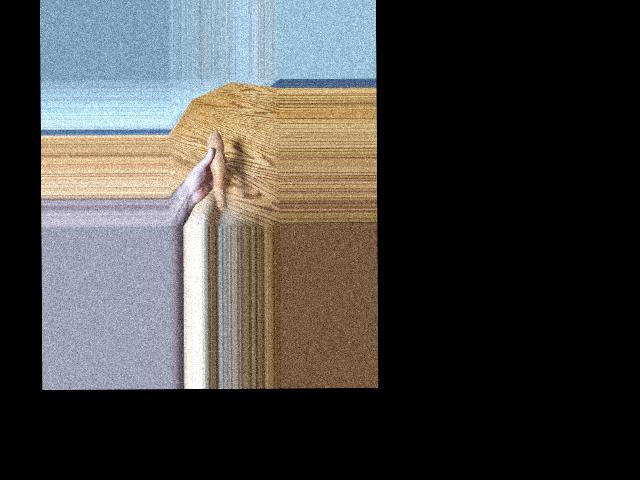sweet_potato: (209, 133, 228, 213)
